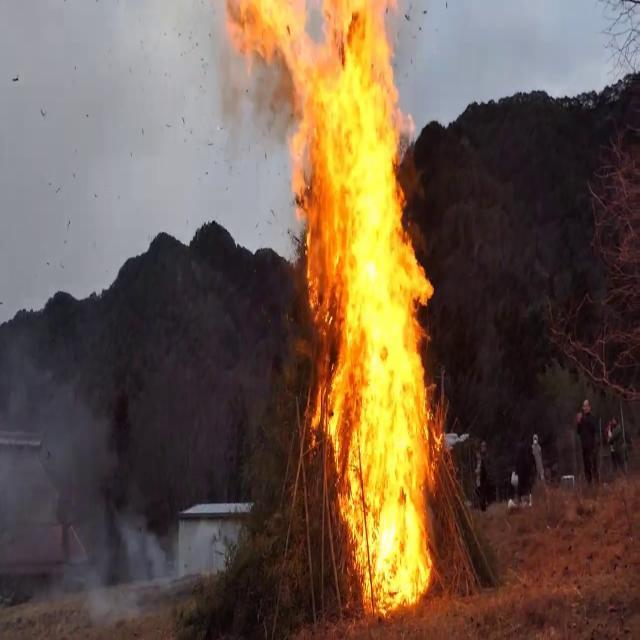Fire: (260, 0, 446, 619)
Smoke: (0, 307, 161, 617)
